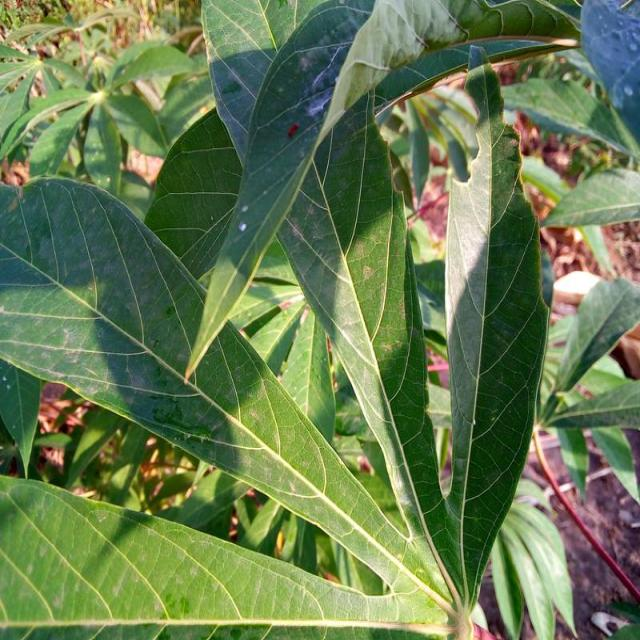cassava leaf: (1, 172, 462, 622), (443, 45, 552, 615)
